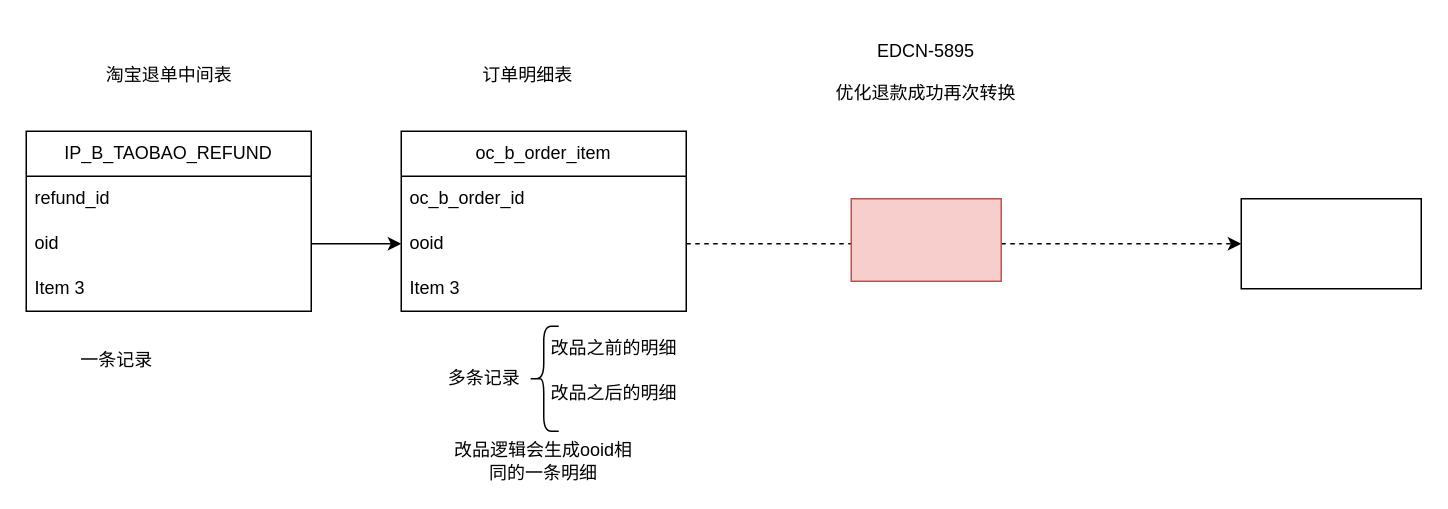
Image size: 1448x509. Some labels were removed from this diagram. The centre of each missing label's shape, as x and y in pixels:
排除掉赠品和退款成功的明细: the point at 1330,243
这里会设置退款成功标志: the point at 925,239
